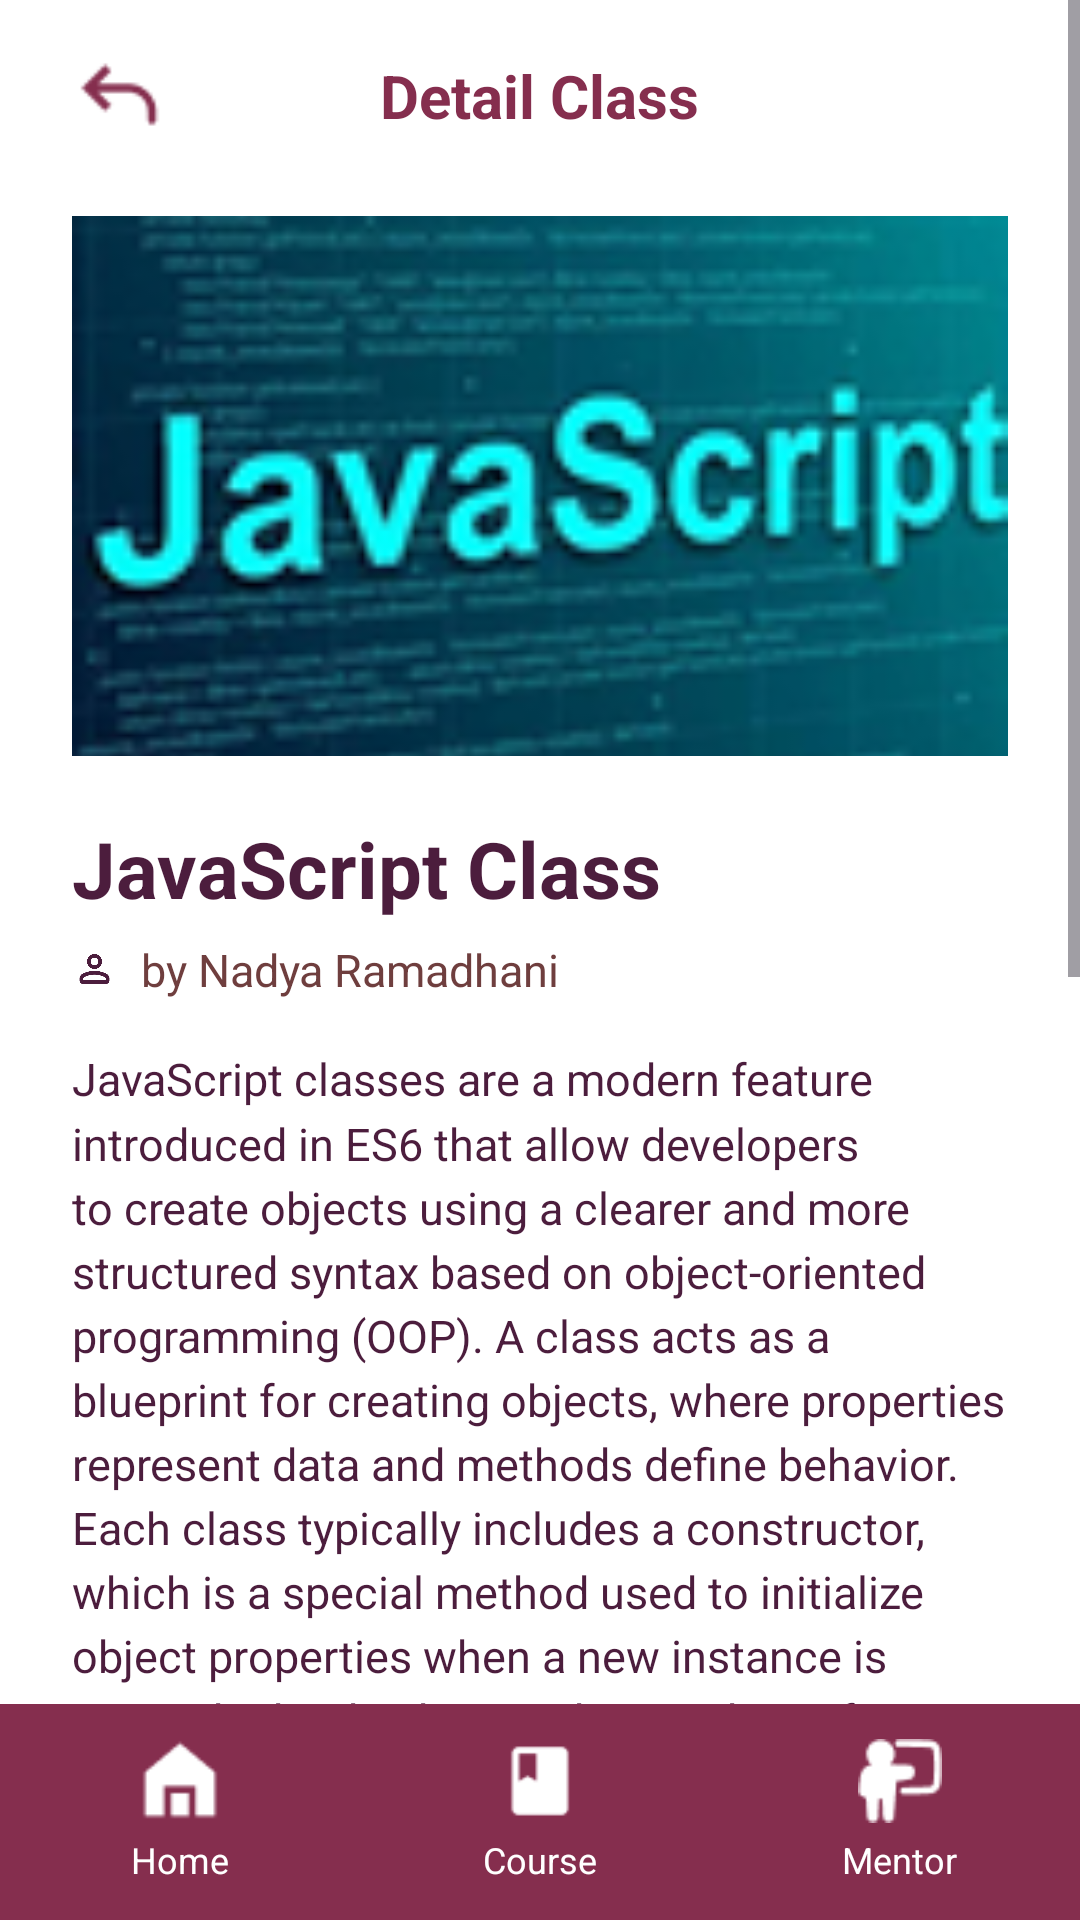

Where to tap for icons on this 1080x1920 app screen, as [x,y]:
back: [120,94]
